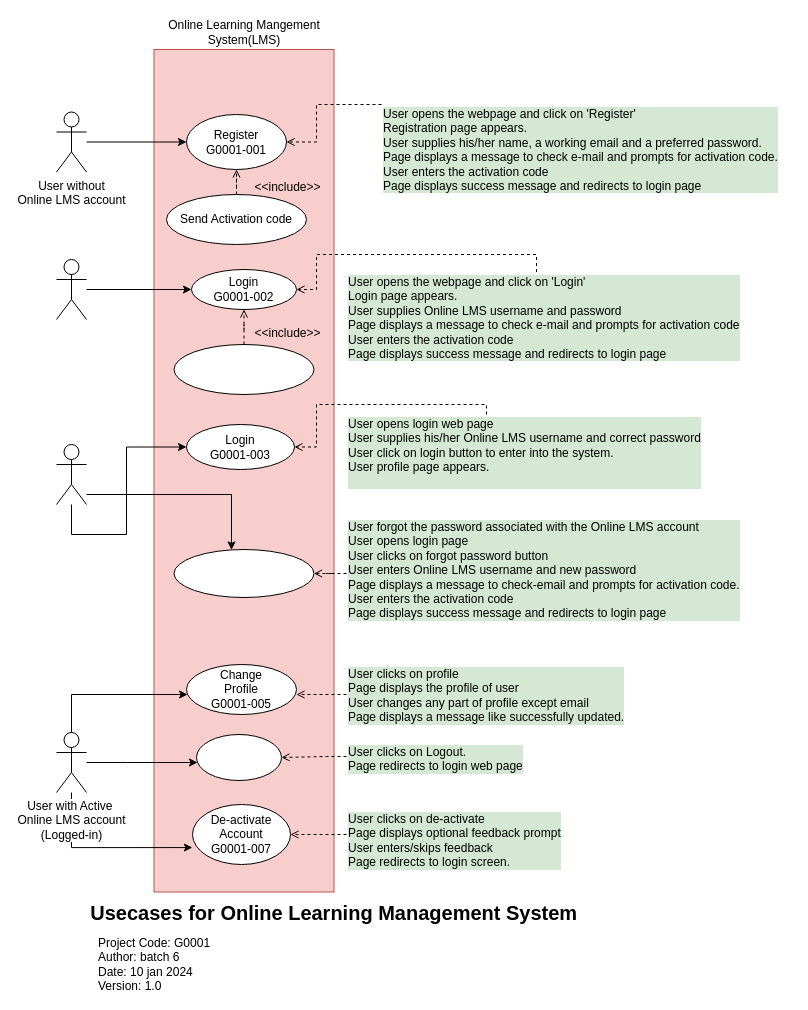
Some shapes in this 808 by 1010 pixel diagram are drawn without their labels. Each missing label, with the box of its shape:
Logout G0001-006: (196, 734, 282, 780)
Resend Activation code: (173, 344, 314, 394)
Reset Password G0001-004: (173, 548, 314, 598)
User with Active Online LMS account (Not Logged-in): (56, 444, 86, 504)
User with Inactive Online LMS account: (56, 258, 86, 320)
